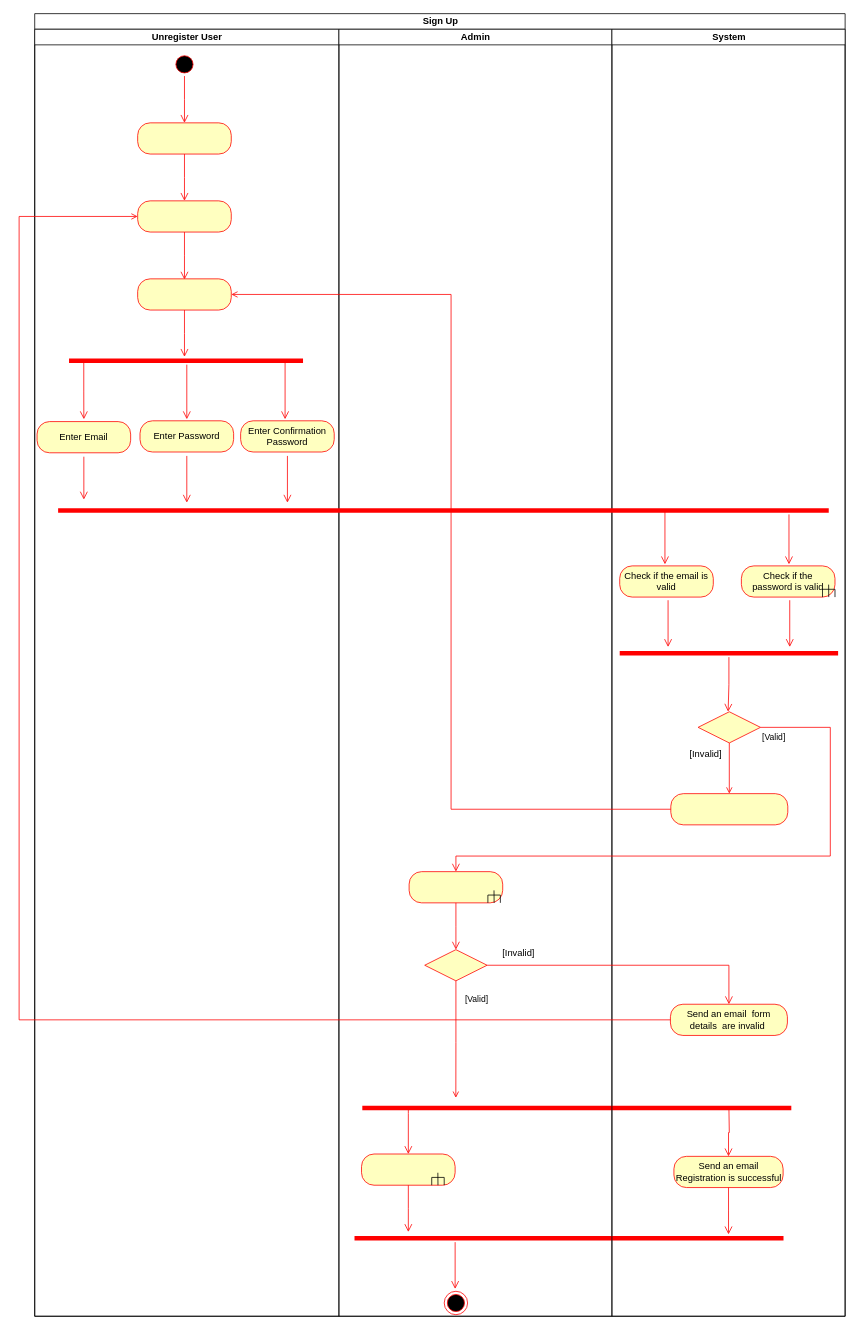
The diagram is 859 pixels wide and 1330 high, and some of its shapes have lost their labels. Each missing label, with the centre of its shape:
"Add to Registered users" belongs at (408,1169).
"Check form details" belongs at (455,887).
"Fill the form" belongs at (184,294).
"Go to the online teacher trainer" belongs at (184,138).
"Select sign-in as Trainee Teacher or Lecturer" belongs at (184,216).
"Send a message Email/password is invalid" belongs at (729,809).
